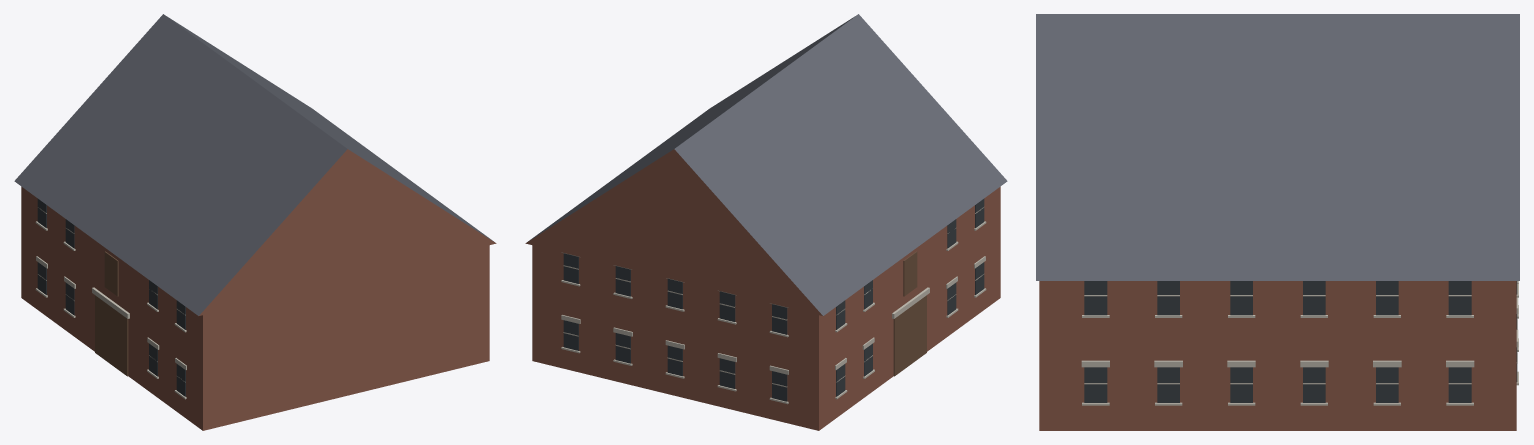
File: armour_house_2115_prairie_coach_house__draft_1904.glb
3 views of the same model, side by side, from view 1: azimuth 30°, elevation 25°; view 2: azimuth 150°, elevation 25°; view 3: azimuth 270°, elevation 25° (orthographic). The views are drawn at different scales.
Visible parts, largest first — view 1: armour_house_2115_prairie_coach_house__draft_1904; view 2: armour_house_2115_prairie_coach_house__draft_1904; view 3: armour_house_2115_prairie_coach_house__draft_1904.
Boxes of the visible parts, box(x1,y1,x2,y2) form: armour_house_2115_prairie_coach_house__draft_1904: box(14, 14, 496, 430); armour_house_2115_prairie_coach_house__draft_1904: box(525, 14, 1007, 430); armour_house_2115_prairie_coach_house__draft_1904: box(1036, 14, 1519, 430).
Size of the model in its own units: 15.85 by 12.6 by 16.99.
